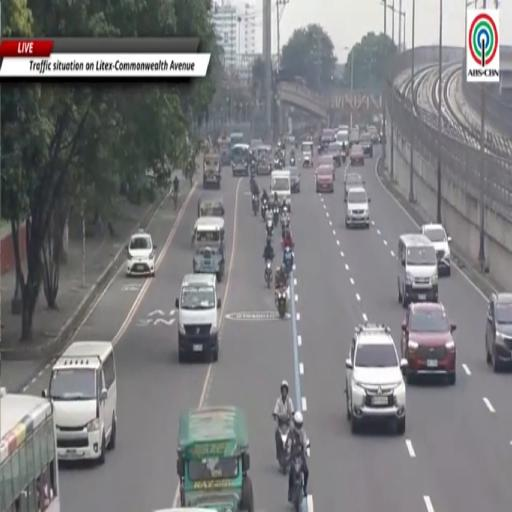bus: (0, 388, 59, 511), (230, 133, 244, 150)
car: (346, 323, 407, 435), (401, 302, 456, 385), (486, 293, 511, 372), (421, 223, 451, 276), (126, 230, 156, 277), (344, 187, 370, 228), (345, 172, 365, 200), (315, 165, 333, 193), (328, 142, 341, 167), (360, 133, 373, 157), (350, 144, 364, 166), (290, 168, 300, 193), (367, 125, 379, 143), (349, 127, 359, 148)
jeepney: (177, 407, 254, 511), (194, 217, 225, 281), (203, 153, 221, 188), (198, 194, 224, 217), (231, 144, 249, 177), (256, 146, 272, 174), (218, 137, 230, 166), (301, 141, 313, 167), (230, 133, 244, 149), (251, 139, 263, 150)
motorcycle: (273, 413, 290, 474), (290, 456, 303, 511), (276, 288, 287, 318), (265, 260, 272, 289), (284, 255, 293, 275), (252, 195, 258, 216), (273, 205, 279, 226), (280, 215, 289, 229), (261, 200, 267, 220), (266, 219, 273, 236), (290, 157, 296, 166), (342, 153, 346, 163)
truck: (270, 170, 291, 211)
